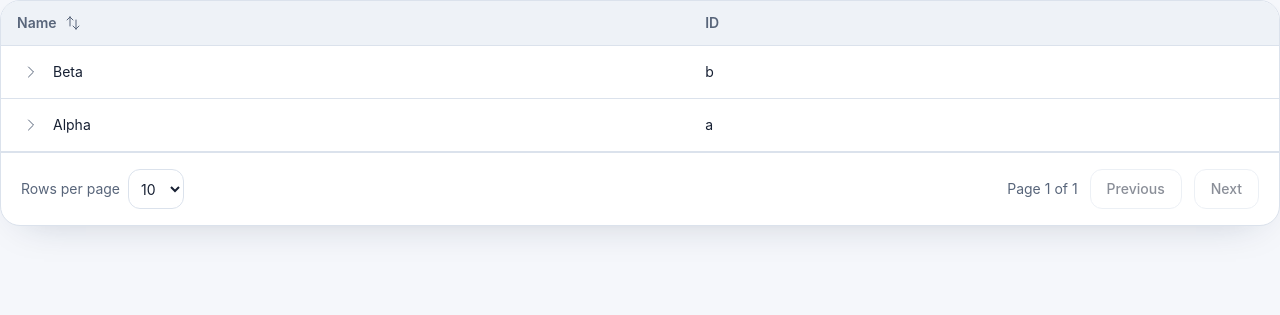
Test: DataTable expansion › refetches a successful row on re-expansion when caching is disabled
Click the button named "Expand row" next to "Beta". click: [31, 72]
box: [17,58,45,86]
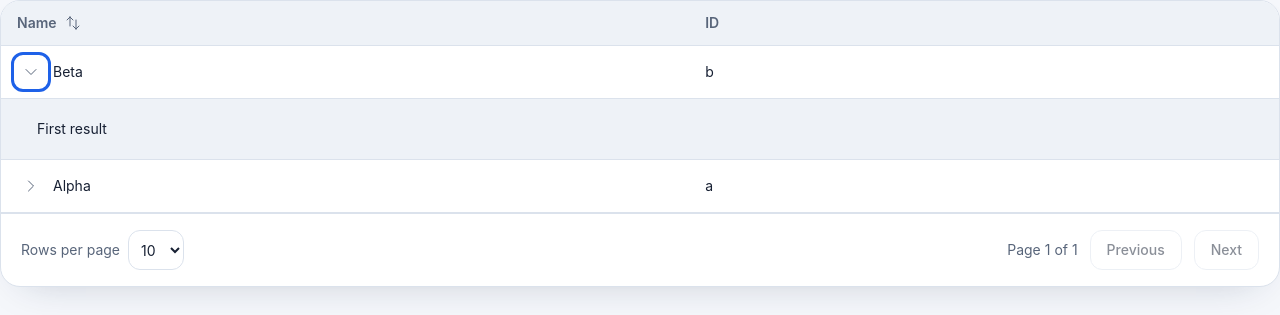
expect the text "First result" is shown: met, box [37,120,107,137]
Click the button named "Collapse row". click: [31, 72]
box: [17,58,45,86]
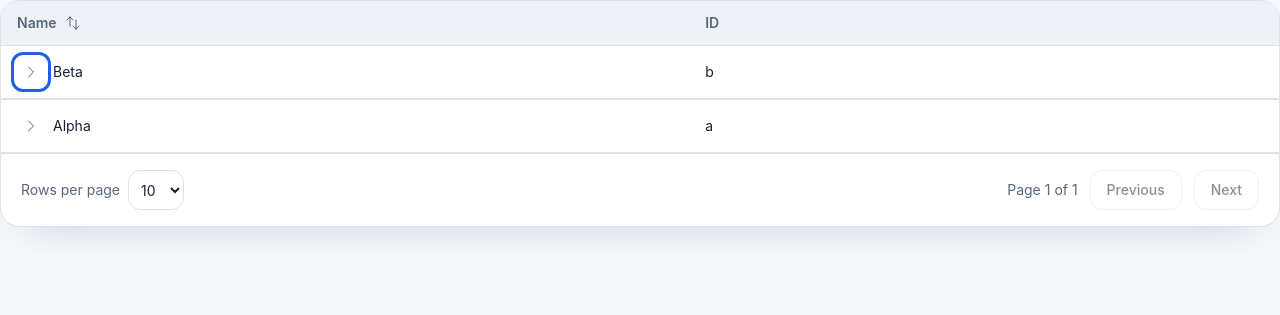
Click the button named "Expand row" next to "Beta". click: [31, 72]
box: [17,58,45,86]
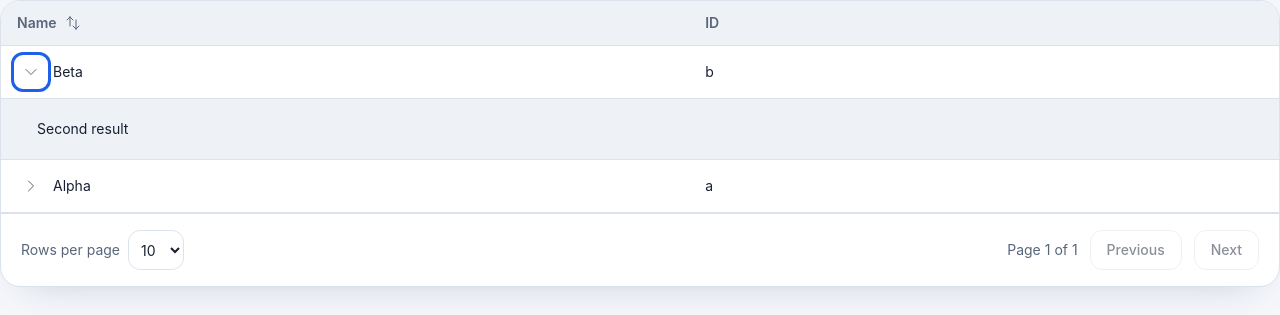
expect the text "Second result" is shown: met, box [37,120,128,137]
